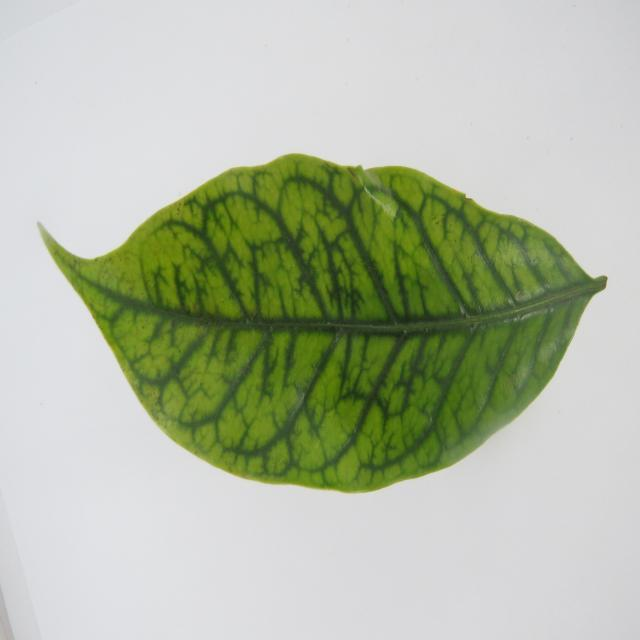DeficienciaNutricional-Magnesio: (39, 155, 606, 492)
